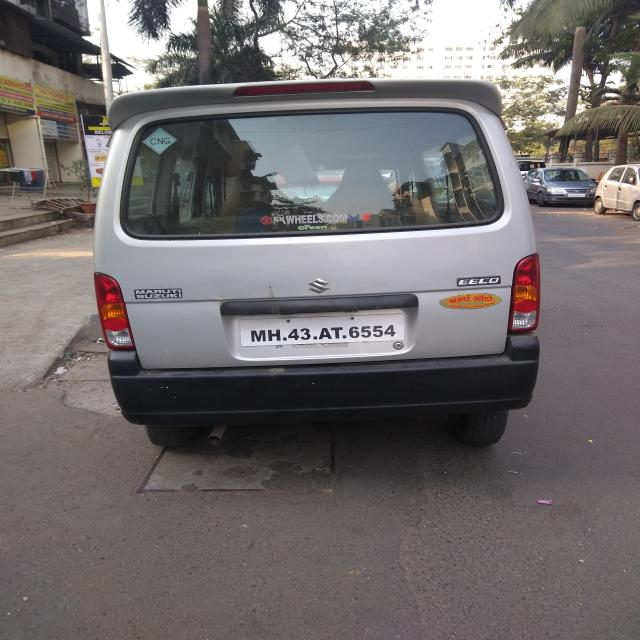Number-Plate: (244, 313, 406, 348)
